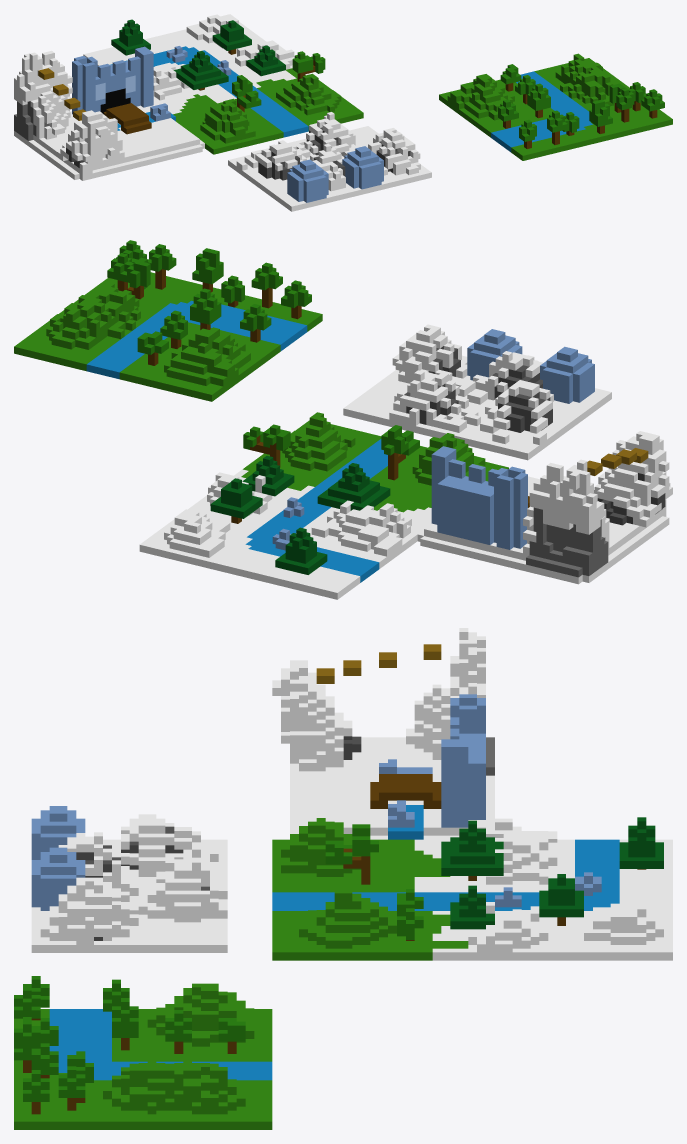
Rendered from World ice part 6.gltf.
3 views of the same model, one above another, from view 1: azimuth 30°, elevation 25°; view 2: azimuth 150°, elevation 25°; view 3: azimuth 270°, elevation 25° (orthographic). The views are drawn at different scales.
Parts seen in each view (by area): view 1: Layer.1, Layer.5, Layer.4, Layer.2, Layer.3; view 2: Layer.5, Layer.1, Layer.2, Layer.3, Layer.4; view 3: Layer.5, Layer.1, Layer.4, Layer.2, Layer.3.
Part boxes in pixels (left/top/right/bottom): Layer.1: left=14, top=46, right=204, bottom=180; Layer.5: left=439, top=53, right=672, bottom=160; Layer.4: left=153, top=45, right=363, bottom=154; Layer.2: left=228, top=112, right=431, bottom=211; Layer.3: left=83, top=14, right=294, bottom=101; Layer.5: left=14, top=240, right=322, bottom=401; Layer.1: left=417, top=431, right=672, bottom=584; Layer.2: left=343, top=324, right=611, bottom=460; Layer.3: left=139, top=472, right=424, bottom=599; Layer.4: left=234, top=412, right=508, bottom=538; Layer.5: left=14, top=976, right=272, bottom=1129; Layer.1: left=272, top=628, right=494, bottom=839; Layer.4: left=272, top=818, right=548, bottom=960; Layer.2: left=31, top=806, right=227, bottom=952; Layer.3: left=468, top=817, right=672, bottom=960.
Bounding box in the file's own units: 101 × 16 × 74.
Materials: 1 (1 with a texture image).
